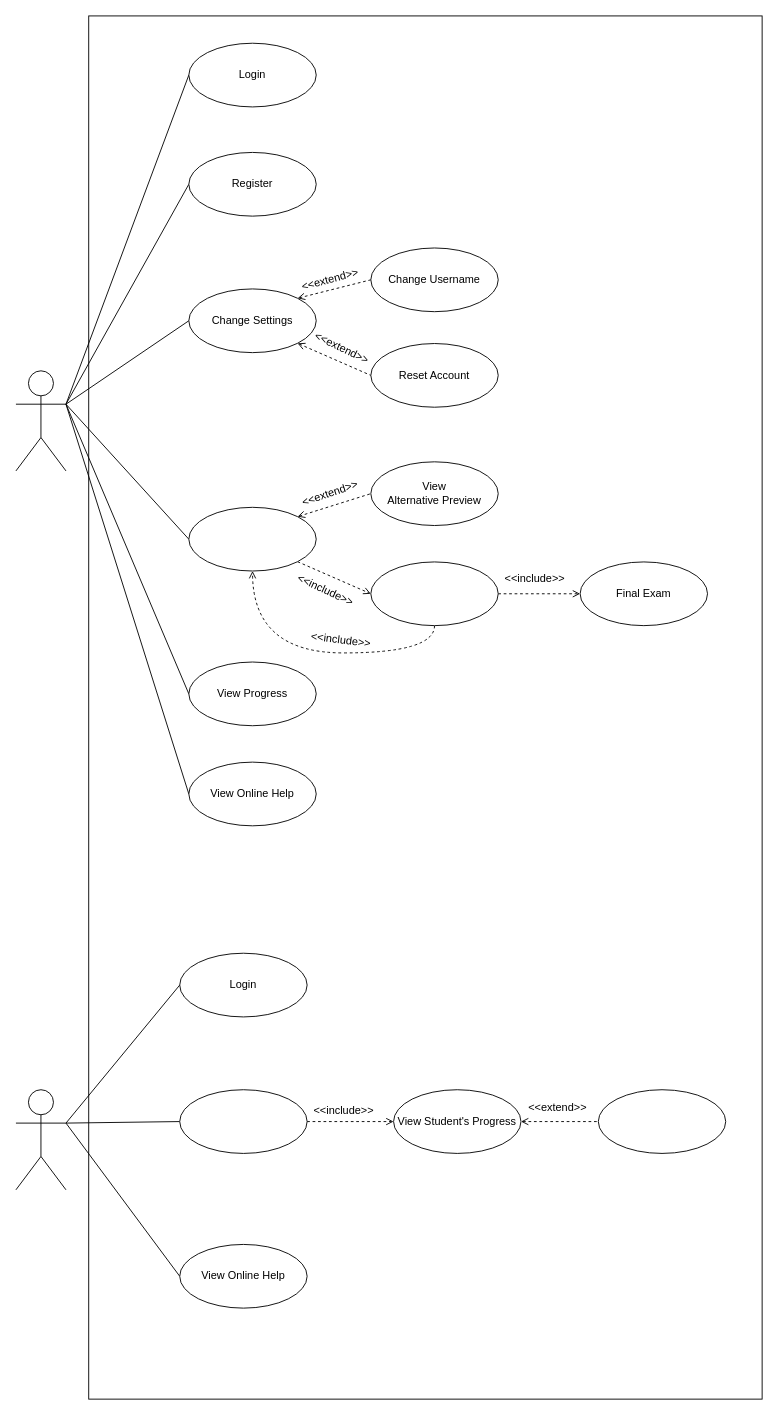
Some shapes in this 778 by 1415 pixel diagram are drawn without their labels. Here are the shapes that lost their labels. From the top down, the centre of each, then its label:
point 40,420: Student
point 252,538: View Next Chapter
point 434,593: Do Exercises
point 40,1139: Professor
point 243,1121: Search for Student
point 661,1121: Modify Data
